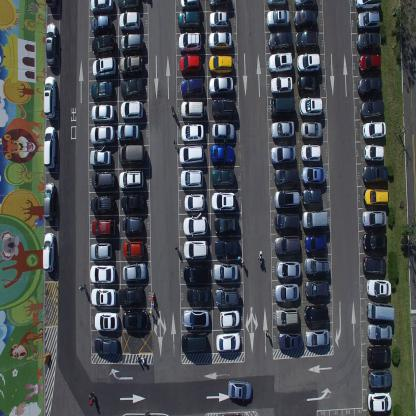car: (180, 329, 207, 354), (118, 143, 146, 167), (42, 124, 56, 170), (178, 143, 204, 167), (273, 188, 300, 211), (365, 301, 394, 322), (92, 55, 117, 79), (215, 330, 241, 353), (227, 378, 253, 401), (273, 233, 300, 255), (182, 306, 210, 327), (43, 74, 56, 119), (182, 212, 207, 235), (298, 95, 323, 118), (212, 260, 238, 282), (93, 310, 119, 332), (304, 328, 330, 350), (304, 256, 330, 278), (90, 124, 116, 146), (362, 186, 388, 208), (357, 76, 383, 98), (269, 97, 295, 119), (267, 50, 293, 72), (208, 74, 234, 96), (118, 53, 144, 75), (121, 308, 148, 329), (301, 209, 328, 230), (42, 231, 55, 274), (296, 51, 320, 74), (183, 236, 208, 258), (118, 284, 143, 306), (274, 306, 299, 328), (274, 166, 299, 188), (210, 144, 235, 166), (180, 99, 205, 121), (119, 168, 144, 190), (91, 102, 116, 124), (211, 97, 236, 119), (210, 190, 236, 211), (213, 236, 239, 257), (214, 286, 240, 307), (90, 193, 116, 214), (359, 100, 385, 121), (356, 31, 382, 52), (208, 53, 234, 74), (46, 22, 58, 67), (43, 181, 56, 222), (120, 75, 143, 98), (213, 214, 237, 236), (122, 237, 146, 259), (358, 52, 382, 74), (356, 10, 380, 32), (180, 76, 204, 98), (179, 53, 203, 75), (178, 31, 202, 53), (177, 10, 201, 32), (91, 33, 115, 55), (210, 167, 235, 188), (91, 169, 116, 190), (270, 119, 295, 140), (119, 100, 144, 121), (119, 32, 144, 53), (183, 262, 209, 282), (90, 264, 116, 284), (121, 261, 147, 281), (277, 332, 303, 352), (303, 306, 329, 326), (270, 145, 296, 165), (120, 193, 146, 213), (362, 164, 388, 184), (118, 10, 141, 32), (92, 216, 116, 237), (366, 346, 390, 367), (180, 167, 204, 188), (212, 121, 236, 142), (293, 8, 317, 29), (208, 30, 232, 51), (274, 282, 299, 302), (274, 212, 299, 232), (366, 278, 391, 298), (90, 287, 116, 306), (276, 259, 302, 278), (304, 233, 326, 255), (300, 120, 322, 142), (90, 241, 113, 262), (297, 74, 320, 95), (90, 79, 113, 100), (186, 284, 210, 304), (366, 392, 390, 412), (301, 166, 325, 186), (362, 120, 386, 140), (295, 30, 319, 50), (93, 336, 118, 355), (362, 232, 387, 251), (304, 280, 330, 298), (361, 210, 387, 228), (122, 214, 144, 235), (90, 14, 112, 35), (367, 370, 390, 390), (181, 122, 204, 142), (363, 255, 386, 275), (266, 9, 289, 29), (367, 324, 392, 342), (363, 143, 385, 163), (270, 74, 292, 94), (117, 123, 140, 142), (184, 192, 205, 212), (300, 144, 321, 164), (208, 10, 229, 30), (300, 187, 322, 206), (90, 148, 112, 167), (220, 308, 240, 328), (89, 0, 114, 15), (117, 0, 140, 11), (179, 0, 200, 11), (354, 0, 382, 8), (293, 0, 317, 9), (208, 0, 231, 8), (266, 0, 287, 8), (45, 0, 58, 10)
